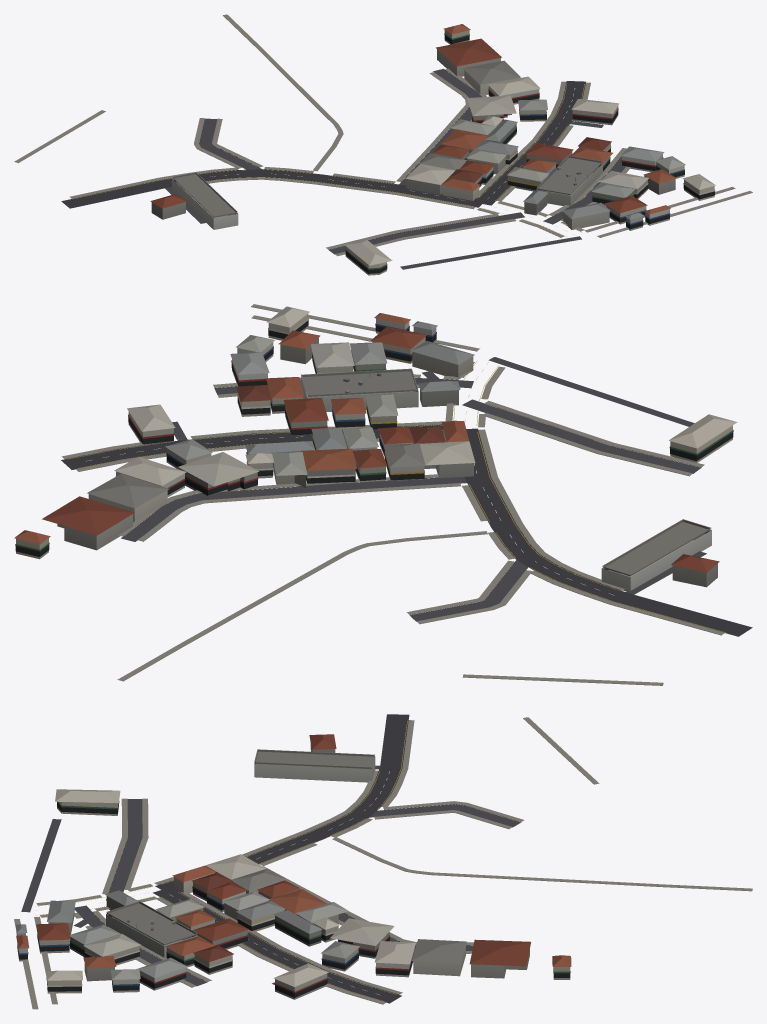
The picture shows the model from 3 angles, top to bottom: view 1: azimuth 30°, elevation 25°; view 2: azimuth 150°, elevation 25°; view 3: azimuth 270°, elevation 25°; orthographic projection. The views are drawn at different scales.
Parts seen in each view (by area): view 1: Buildings__r-13c-5-col, Sidewalks__r-13c-5-col, Roads_Major__r-13c-5, Roads_Minor__r-13c-5, Windows__r-13c-5, Zapatera Gym-col, Markings__r-13c-5; view 2: Buildings__r-13c-5-col, Sidewalks__r-13c-5-col, Roads_Major__r-13c-5, Roads_Minor__r-13c-5, Windows__r-13c-5, Zapatera Gym-col, Markings__r-13c-5; view 3: Buildings__r-13c-5-col, Sidewalks__r-13c-5-col, Roads_Major__r-13c-5, Roads_Minor__r-13c-5, Windows__r-13c-5, Zapatera Gym-col, Markings__r-13c-5.
Boxes of the visible parts, <box> form: Buildings__r-13c-5-col: <box>150,24,715,230</box>; Sidewalks__r-13c-5-col: <box>14,14,752,256</box>; Roads_Major__r-13c-5: <box>61,81,585,208</box>; Roads_Minor__r-13c-5: <box>165,68,625,269</box>; Windows__r-13c-5: <box>174,33,715,229</box>; Zapatera Gym-col: <box>344,240,392,275</box>; Markings__r-13c-5: <box>72,83,584,236</box>; Buildings__r-13c-5-col: <box>14,306,719,591</box>; Sidewalks__r-13c-5-col: <box>61,304,724,685</box>; Roads_Major__r-13c-5: <box>61,424,752,636</box>; Roads_Minor__r-13c-5: <box>121,357,706,621</box>; Windows__r-13c-5: <box>15,318,708,569</box>; Zapatera Gym-col: <box>669,414,737,462</box>; Markings__r-13c-5: <box>68,360,725,632</box>; Buildings__r-13c-5-col: <box>15,734,571,999</box>; Sidewalks__r-13c-5-col: <box>14,717,752,1009</box>; Roads_Major__r-13c-5: <box>153,714,409,1003</box>; Roads_Minor__r-13c-5: <box>21,765,520,986</box>; Windows__r-13c-5: <box>16,762,570,997</box>; Zapatera Gym-col: <box>55,789,120,815</box>; Markings__r-13c-5: <box>35,720,407,1001</box>.
Bounding box in the file's own units: 311 × 9.41 × 328.
